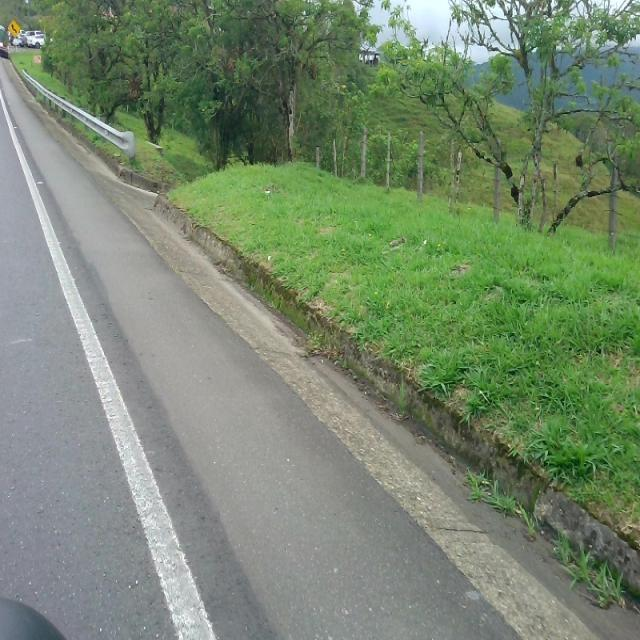DITCH: (2, 54, 638, 638)
